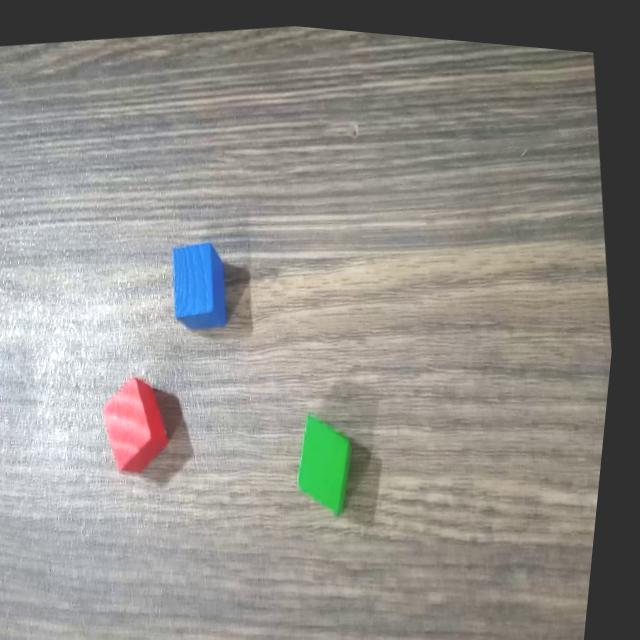cube: (96, 363, 191, 487), (289, 393, 379, 520), (164, 226, 246, 335)
